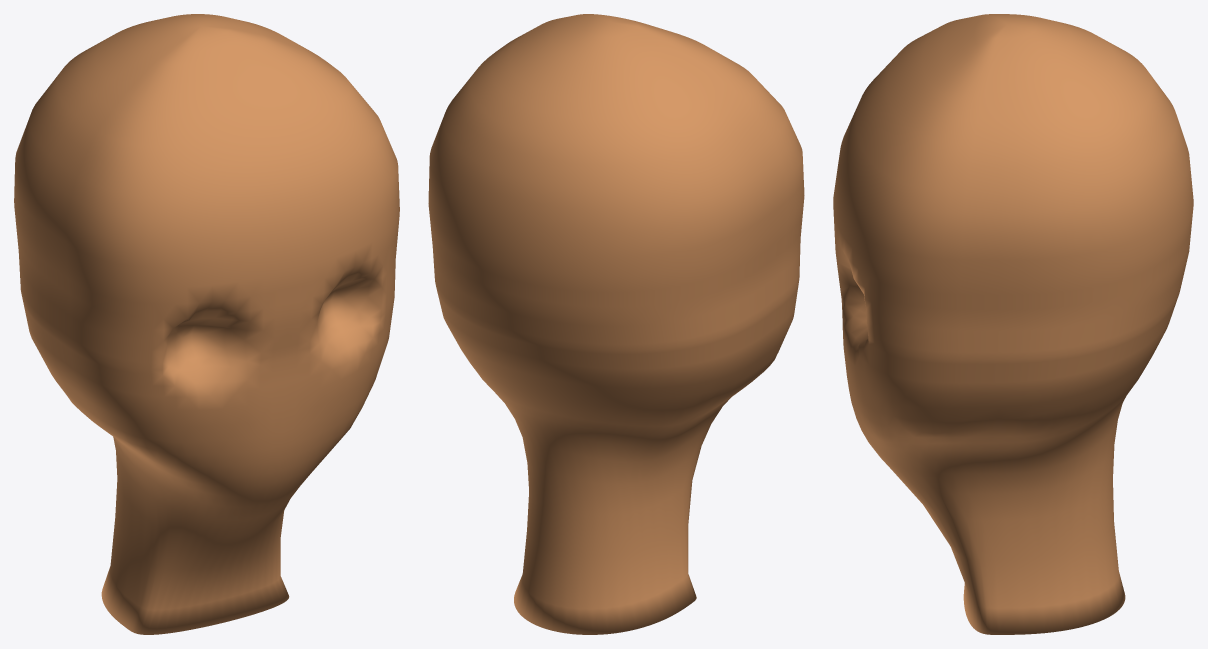
Rendered from base-feminina-05.glb.
The picture shows the model from 3 angles, left to right: view 1: azimuth 30°, elevation 25°; view 2: azimuth 150°, elevation 25°; view 3: azimuth 270°, elevation 25°; orthographic projection. The views are drawn at different scales.
Parts seen in each view (by area): view 1: RCL_Base_Feminina_05; view 2: RCL_Base_Feminina_05; view 3: RCL_Base_Feminina_05.
Part boxes in pixels (x1,y1,x2,y2): RCL_Base_Feminina_05: (14,14,399,634); RCL_Base_Feminina_05: (428,14,804,634); RCL_Base_Feminina_05: (833,14,1193,634).
Size of the model in its own units: 0.174 by 0.305 by 0.174.
